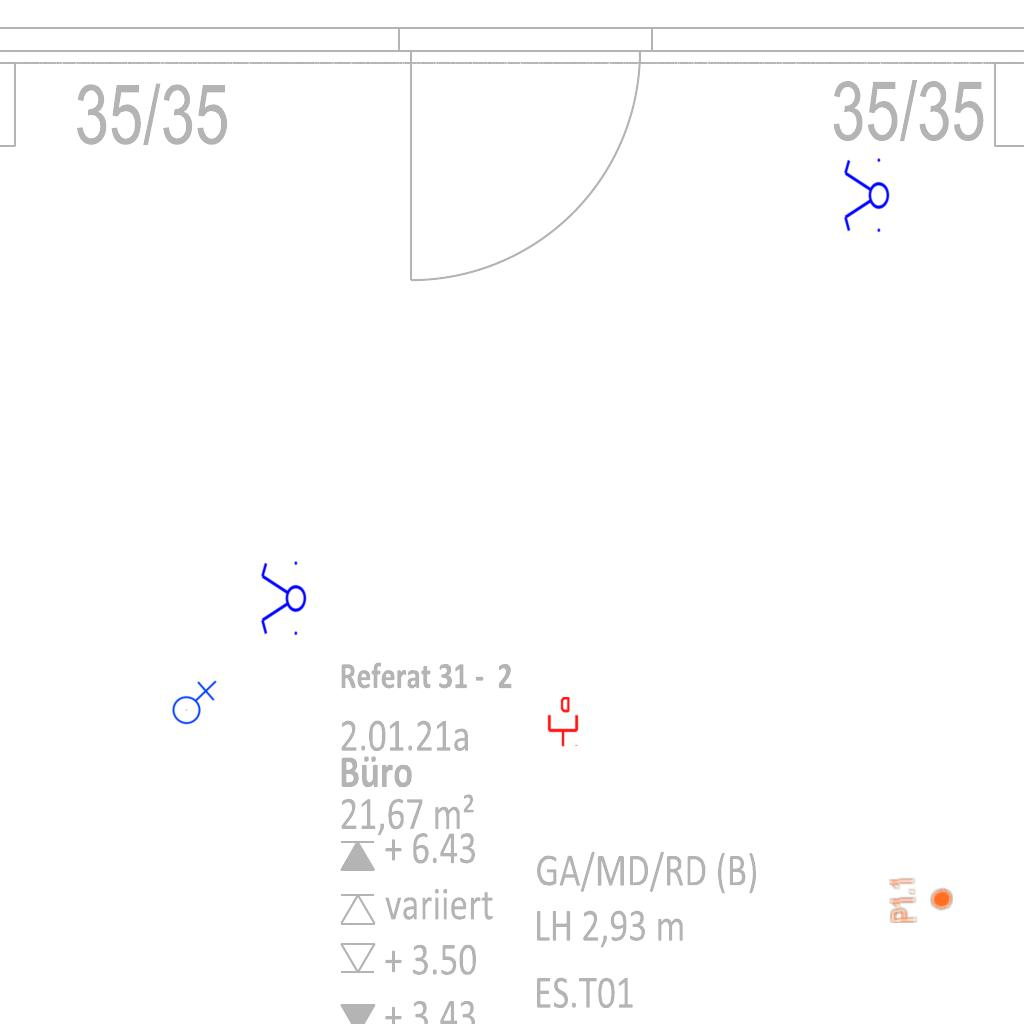Datenanschluss_einfach: (546, 697, 580, 747)
Downlight_LED_Einbauleuchten_Flur_2: (887, 873, 955, 925)
Elektroanschluss_allgemein_230V_Geraeteanschlussdose_230V: (168, 678, 217, 725)
Serienschalter: (259, 557, 307, 641), (842, 154, 890, 238)
